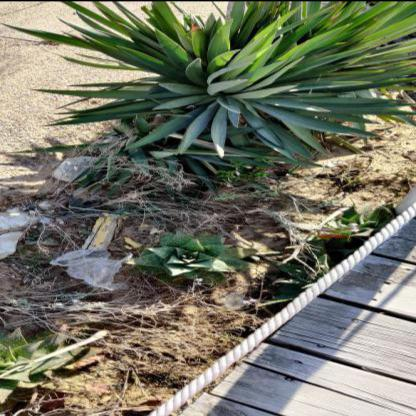Cigarette: (38, 165, 44, 168)
Plastic bag - wrapper: (50, 244, 133, 289), (67, 193, 134, 213), (52, 186, 86, 204), (218, 290, 256, 306)
